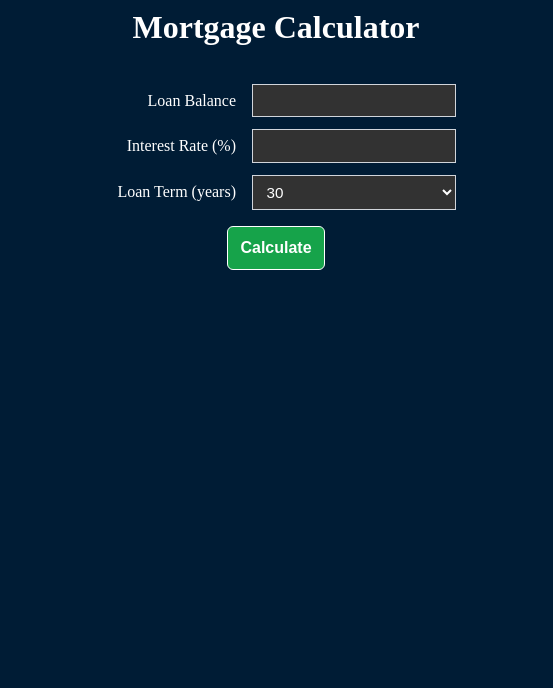
Test: Mortgage Calculator › Integration › should display correct mortgage payment for 30 year term
The image size is (553, 688).
In the number field with test id "balance": [354, 101] box [252,84,456,117], type "420000"
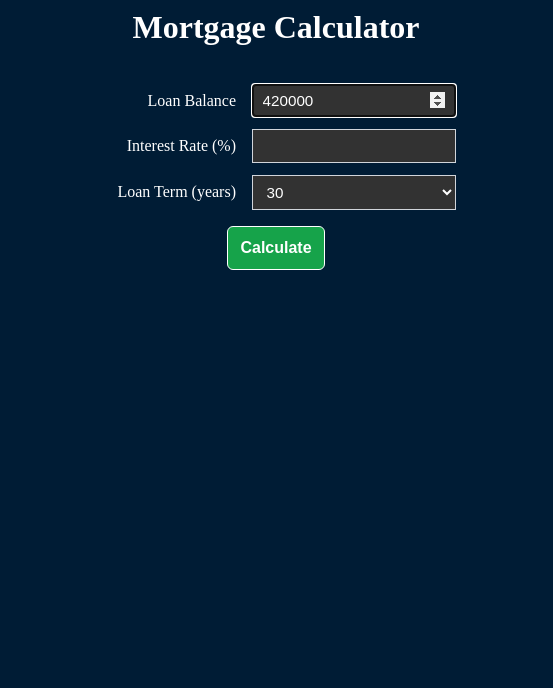
In the number field with test id "rate": [354, 146] box [252,129,456,163], type "3.75"
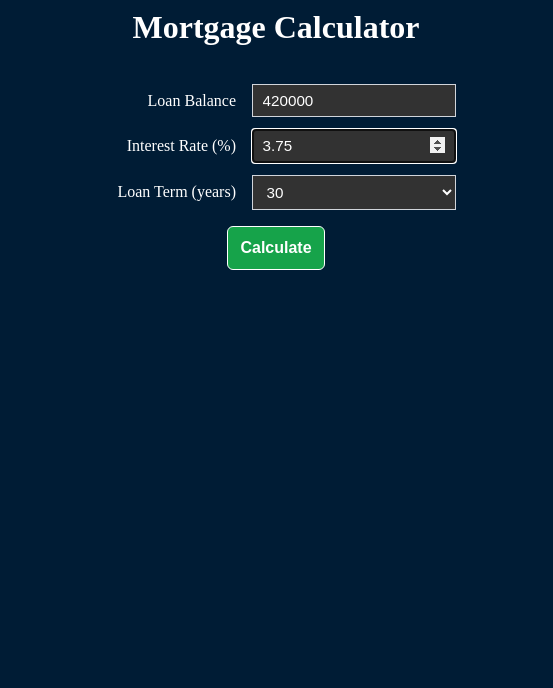
Select "30" in the dropdown with test id "term": [354, 192] box [252,175,456,210]
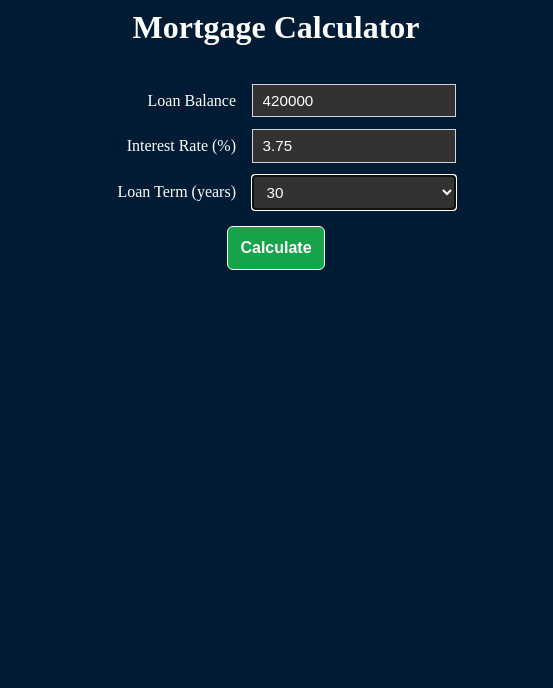
Click the button with test id "submit": [276, 248] box [227,226,324,270]
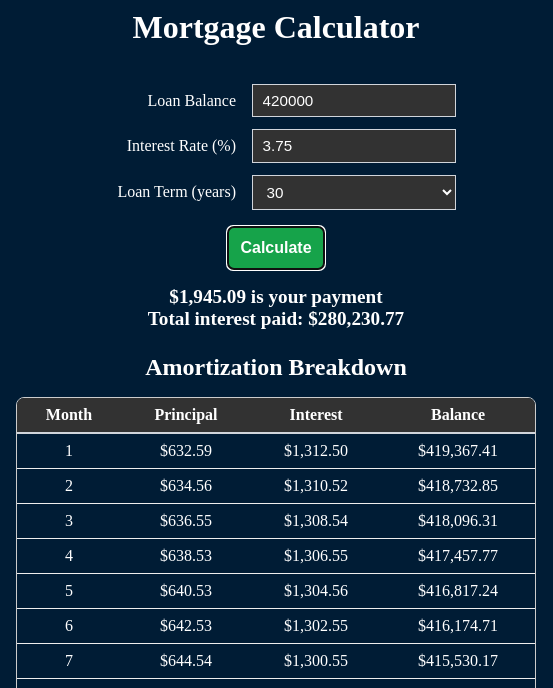
Now the text with test id "output" reads "$1,945.09 is your payment", box [169,286,383,307]
